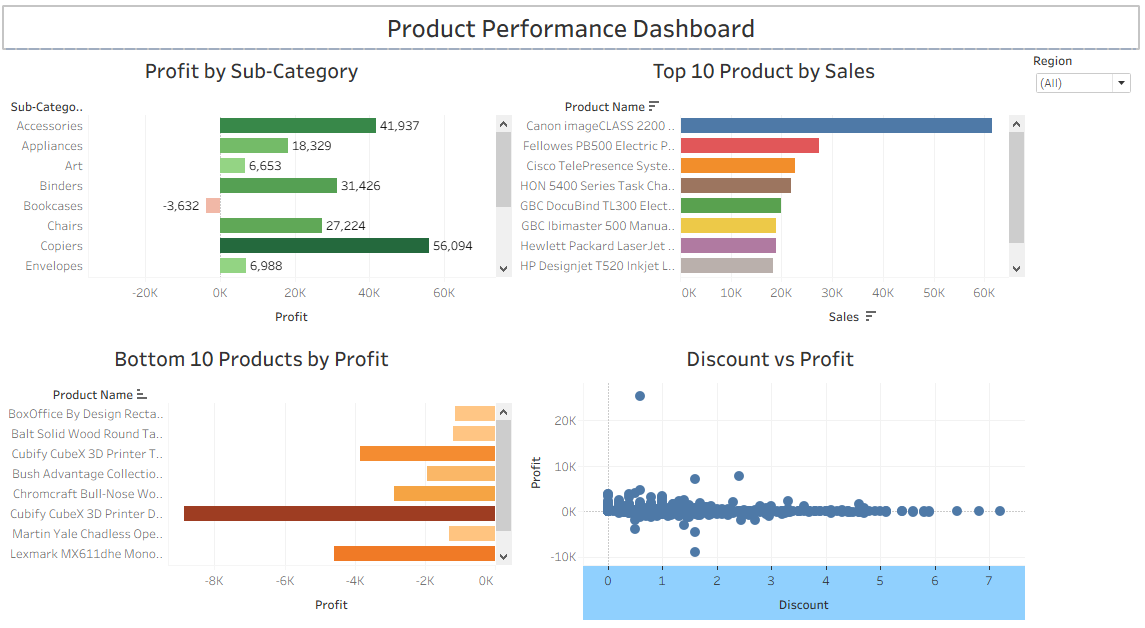

What the dashboard file says about the page in this screenshot:
{"tool":"tableau","page":{"name":"Product Performance Dashboard ","canvas":[1000,1000],"units":"permille","ordinal":1},"visuals":[{"type":"title","box":[7,13,986,66.6]},{"type":"worksheet","title":"Profit by Sub-Category","mark":"Automatic","rows":["Sub-Category"],"cols":["Profit"],"box":[7,79.5,445.1,453.7]},{"type":"worksheet","title":"Top 10 Product by Sales","mark":"Automatic","rows":["Product Name"],"cols":["Sales"],"box":[452.1,79.5,445.1,453.7]},{"type":"filter","title":"Profit by Sub-Category","param":"[federated.0nr00s40wgyps10zirs8p1b8afpr].[none:Region:nk]","box":[897.3,79.5,95.7,84.4]},{"type":"worksheet","title":"Bottom 10 Products by Profit","mark":"Automatic","rows":["Product Name"],"cols":["Profit"],"box":[7,533.3,445.1,453.7]},{"type":"worksheet","title":"Discount vs Profit ","mark":"Circle","rows":["Profit"],"cols":["Discount"],"box":[452.1,533.3,445.1,453.7]}]}

Visuals, with their boxes on the dashboard's canvas, which has no fixed pixel size, in thousandths of its width and height (x1, y1, x2, y2). These are canvas units, not pixel positions in the 1145x628 screenshot, which may show the page scaled, cropped or inside an application window:
title: 7 13 993 80
"Profit by Sub-Category" worksheet: 7 80 452 533
"Top 10 Product by Sales" worksheet: 452 80 897 533
"Profit by Sub-Category" filter: 897 80 993 164
"Bottom 10 Products by Profit" worksheet: 7 533 452 987
"Discount vs Profit " worksheet (Circle marks): 452 533 897 987
